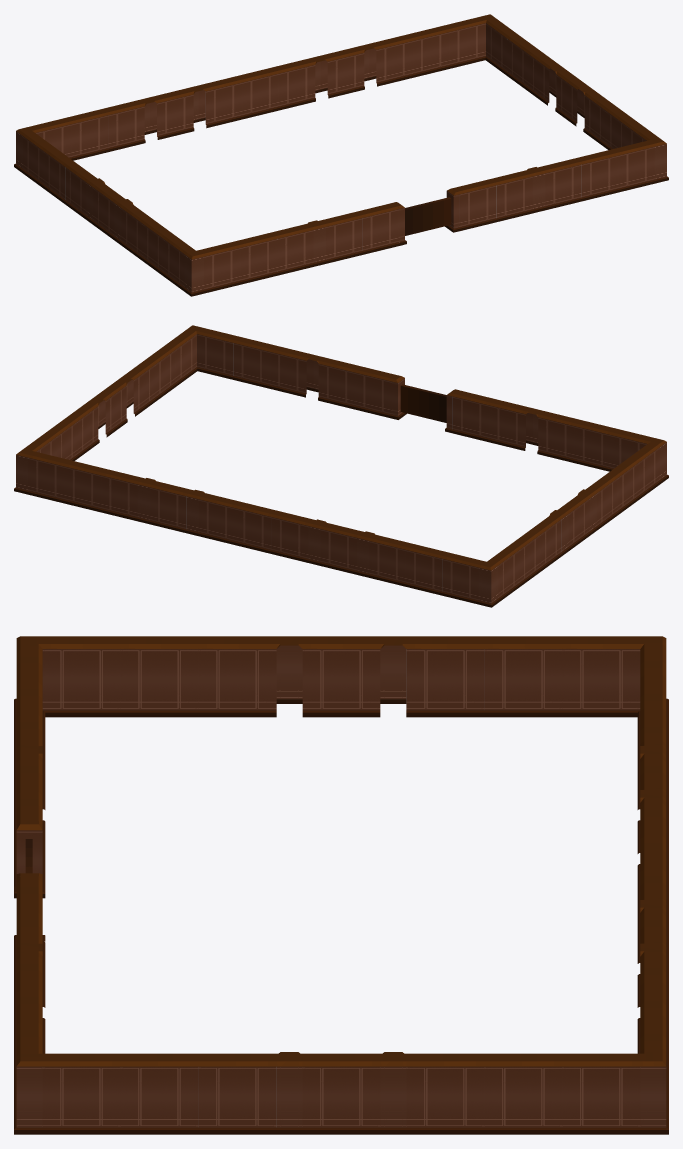
Rendered from Stage1_Outside.fbx.
3 renders of one model, top to bottom at view 1: azimuth 30°, elevation 25°; view 2: azimuth 150°, elevation 25°; view 3: azimuth 270°, elevation 25°, orthographic. The views are drawn at different scales.
Visible parts, largest first — view 1: Floor_v5.001; view 2: Floor_v5.001; view 3: Floor_v5.001.
Boxes of the visible parts, x1=… form: Floor_v5.001: x1=14, y1=14, x2=668, y2=296; Floor_v5.001: x1=14, y1=325, x2=668, y2=607; Floor_v5.001: x1=14, y1=636, x2=668, y2=1134.
Size of the model in its own units: 3920 by 300 by 2520.
